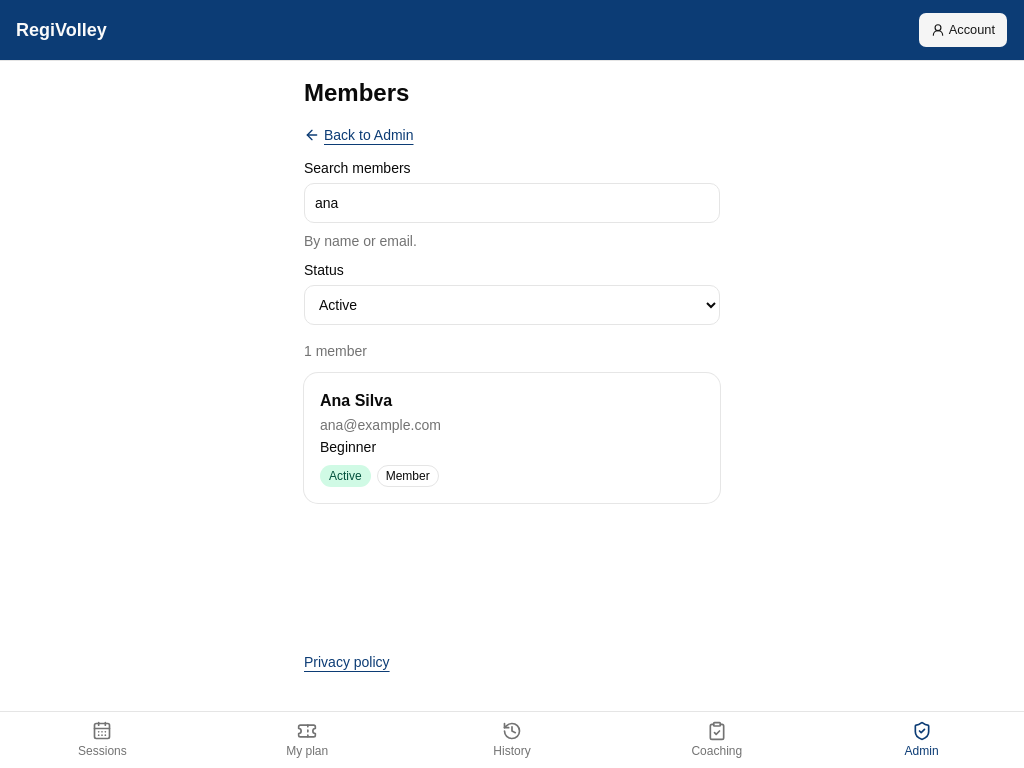
Test case: opening a member › comes back to the same search and filter
Click the link "Ana Silva": (356,400) [320,392,392,409]
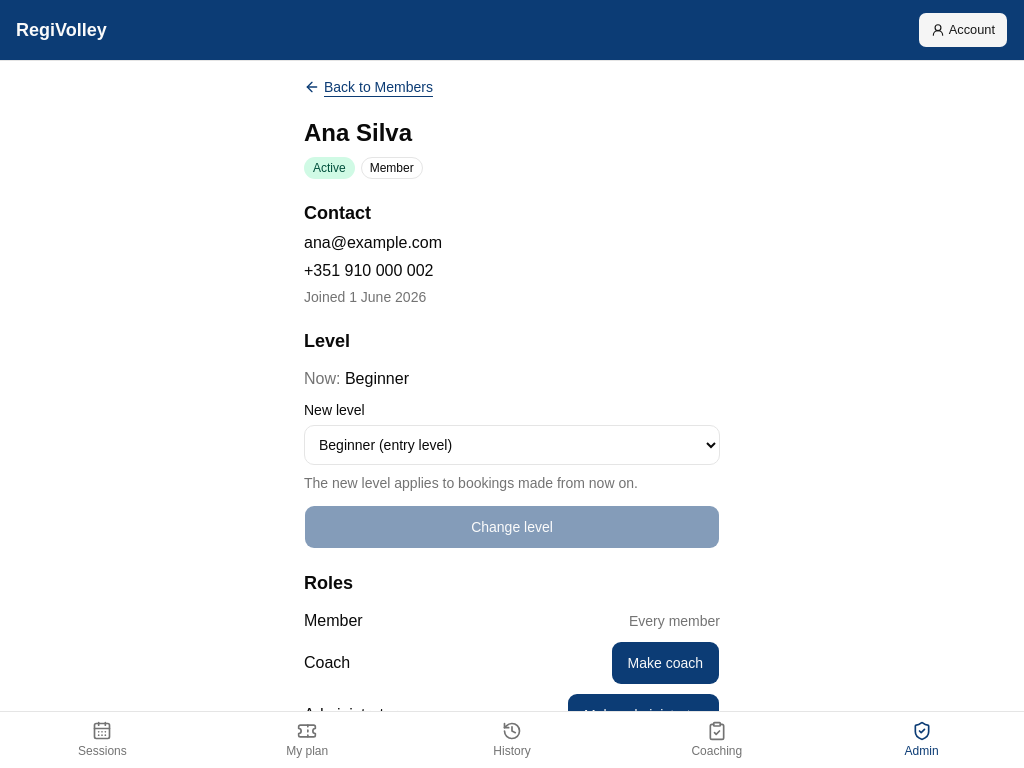
Now the heading "Ana Silva" is shown, box [304,119,412,146]
Click the link "Back to Members": (368,87) [304,77,433,97]
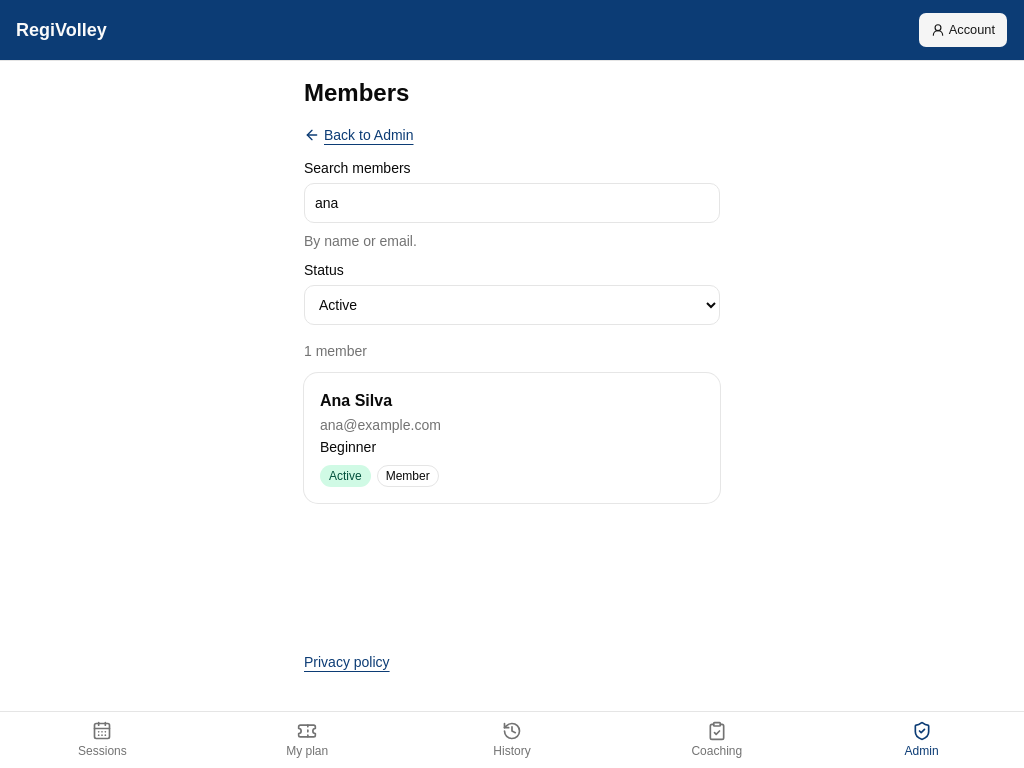
Now the search field labelled "Search members" holds "ana", box [304,183,720,223]
